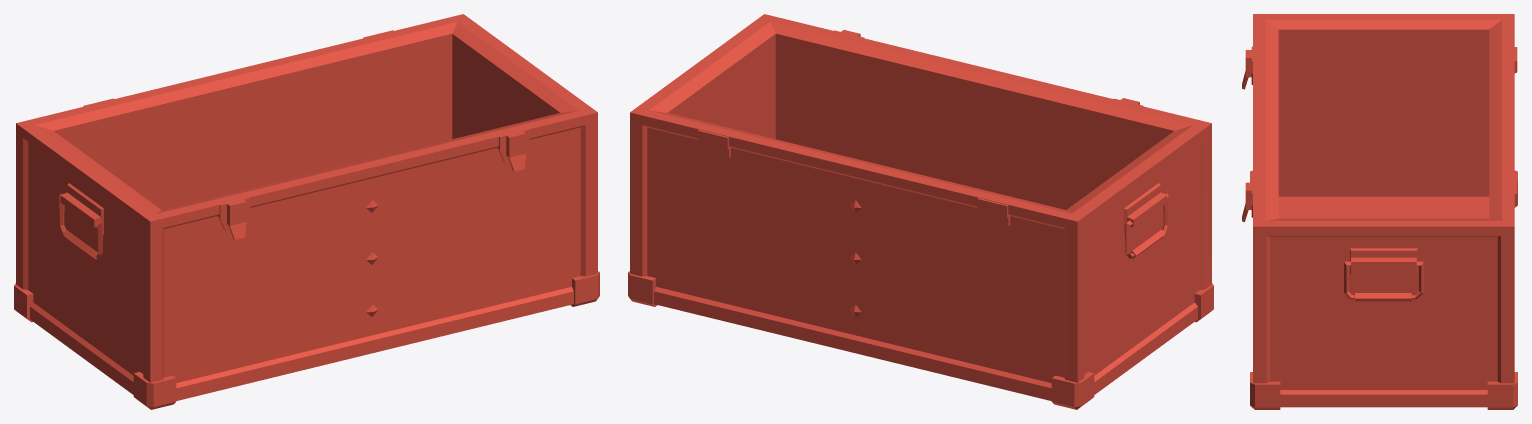
Rendered from SM_Box_Equipment_Padded_Big_Bottom.fbx.
The picture shows the model from 3 angles, left to right: view 1: azimuth 30°, elevation 25°; view 2: azimuth 150°, elevation 25°; view 3: azimuth 270°, elevation 25°; orthographic projection. The views are drawn at different scales.
Parts seen in each view (by area): view 1: SM_Box_Equipment_Padded_Big_Bottom; view 2: SM_Box_Equipment_Padded_Big_Bottom; view 3: SM_Box_Equipment_Padded_Big_Bottom.
Boxes of the visible parts, bbox=[...] form: SM_Box_Equipment_Padded_Big_Bottom: bbox=[14, 14, 599, 409]; SM_Box_Equipment_Padded_Big_Bottom: bbox=[628, 14, 1213, 409]; SM_Box_Equipment_Padded_Big_Bottom: bbox=[1242, 14, 1517, 409].
Size of the model in its own units: 40.03 by 74.93 by 29.51.
